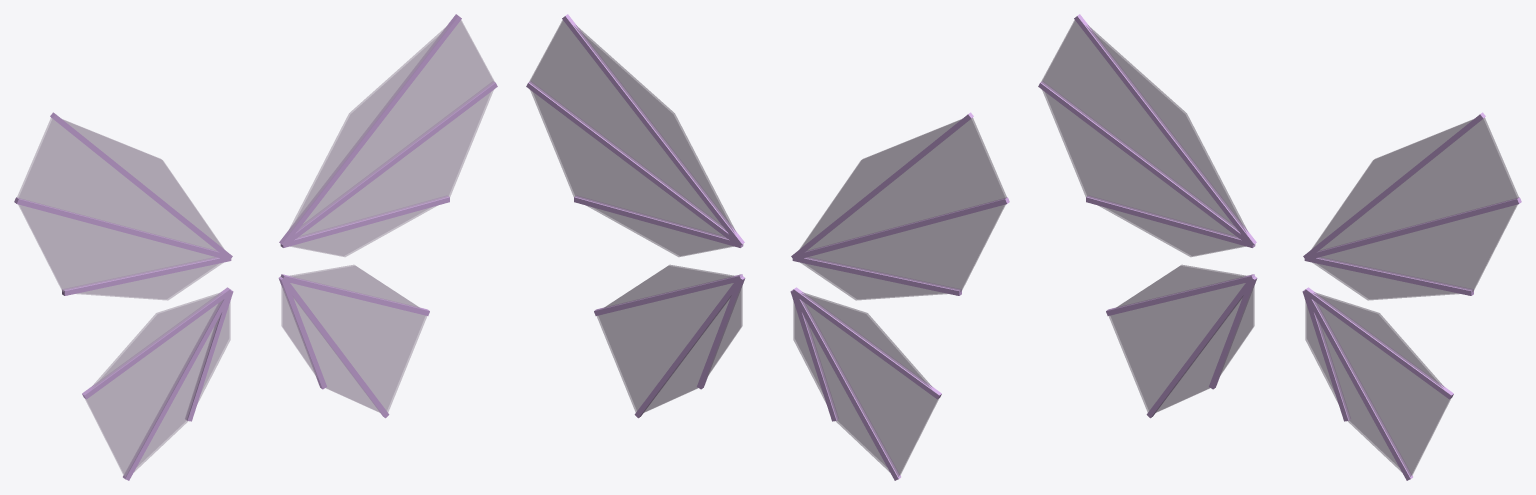
The model's file is asas_fada_translucidas.glb.
3 renders of one model, left to right at view 1: azimuth 30°, elevation 25°; view 2: azimuth 150°, elevation 25°; view 3: azimuth 330°, elevation 25°, orthographic.
Parts seen in each view (by area): view 1: asas_fada_translucidas; view 2: asas_fada_translucidas; view 3: asas_fada_translucidas.
Part boxes in pixels (left/top/right/bottom): asas_fada_translucidas: left=14, top=14, right=497, bottom=480; asas_fada_translucidas: left=526, top=14, right=1009, bottom=480; asas_fada_translucidas: left=1038, top=14, right=1521, bottom=480.
Size of the model in its own units: 1.85 by 1.41 by 0.018.
